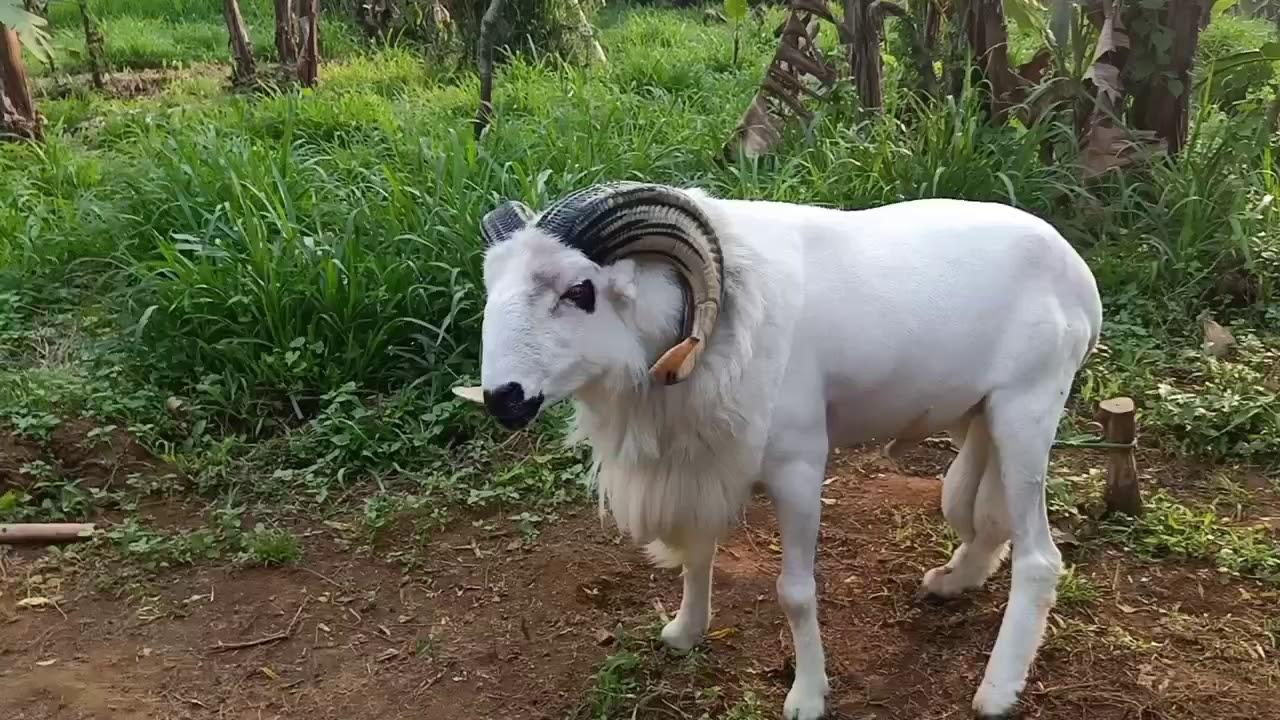Sheep: (451, 163, 732, 434)
